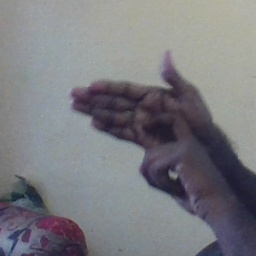R: (70, 53, 229, 202)
